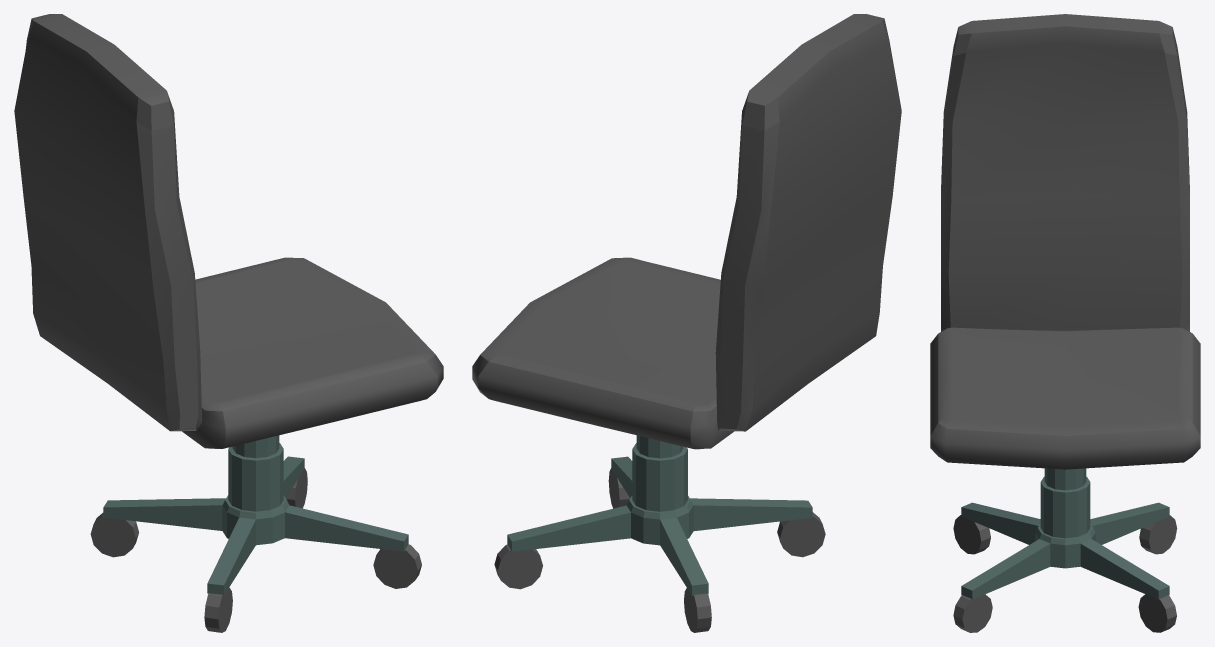
Rendered from Chair.fbx.
3 views of the same model, side by side, from view 1: azimuth 30°, elevation 25°; view 2: azimuth 150°, elevation 25°; view 3: azimuth 270°, elevation 25° (orthographic). The views are drawn at different scales.
Parts seen in each view (by area): view 1: pCube2, pCube1, Axel, Wheels2, Wheels1, Wheels4; view 2: pCube2, pCube1, Axel, Wheels3, Wheels4, Wheels1; view 3: pCube2, pCube1, Axel, Wheels2, Wheels3, Wheels4, Wheels1.
Part boxes in pixels (x1,y1,x2,y2): pCube2: [14, 14, 201, 431]; pCube1: [182, 257, 443, 448]; Axel: [103, 435, 408, 595]; Wheels2: [373, 544, 421, 588]; Wheels1: [90, 513, 138, 557]; Wheels4: [204, 587, 232, 632]; pCube2: [715, 14, 901, 431]; pCube1: [472, 257, 733, 449]; Axel: [507, 435, 812, 595]; Wheels3: [494, 544, 542, 589]; Wheels4: [777, 512, 825, 557]; Wheels1: [684, 588, 711, 632]; pCube2: [941, 14, 1189, 331]; pCube1: [930, 327, 1200, 469]; Axel: [961, 468, 1169, 599]; Wheels2: [953, 594, 992, 632]; Wheels3: [1138, 594, 1176, 632]; Wheels4: [953, 515, 990, 554]; Wheels1: [1139, 515, 1177, 554].
Size of the model in its own units: 15.54 by 26.57 by 12.96.
